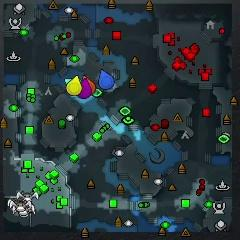p1: (99, 70, 115, 90)
p2: (64, 78, 81, 96)
p3: (77, 78, 91, 99)
p4: (66, 76, 82, 96)
p5: (82, 74, 96, 95)
